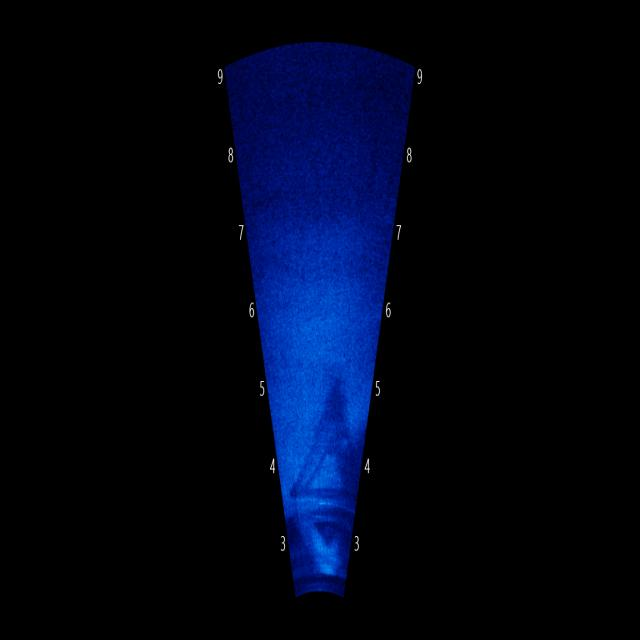triangle: (293, 343, 363, 541)
